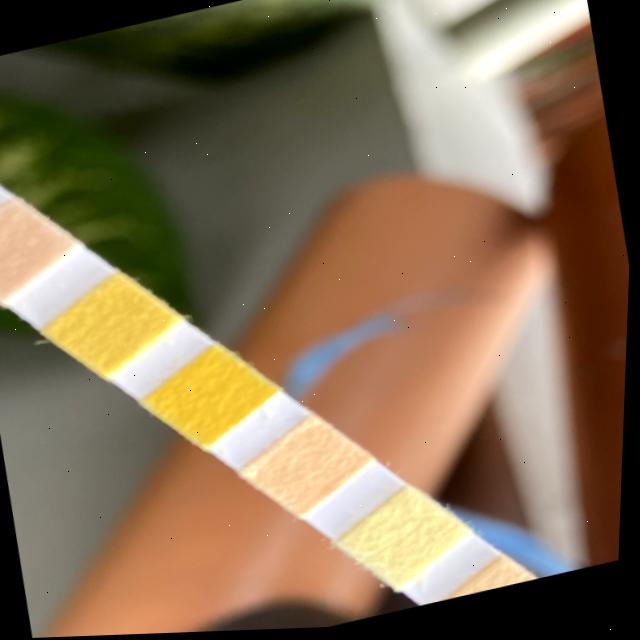Blood: (167, 364, 258, 431)
Ketone: (0, 219, 61, 281)
Protein: (364, 512, 451, 570)
SpGravity: (67, 293, 160, 358)
Urobilinogen: (459, 580, 537, 602)
pH: (267, 440, 352, 501)
